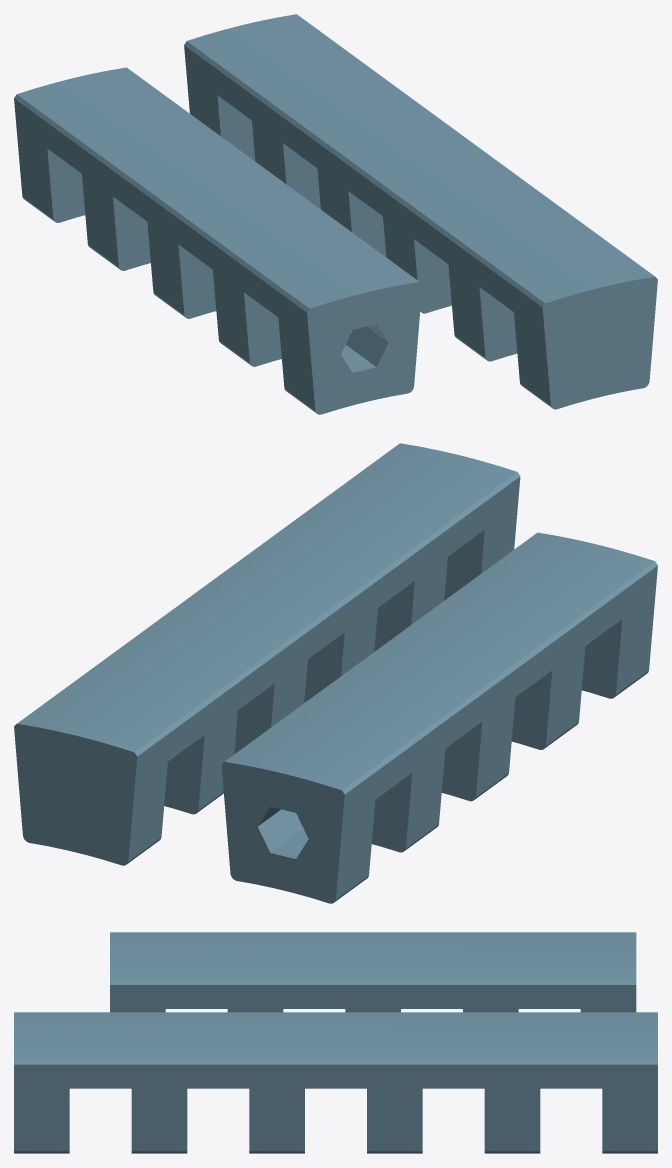
File: comb-device.glb
3 views of the same model, one above another, from view 1: azimuth 30°, elevation 25°; view 2: azimuth 150°, elevation 25°; view 3: azimuth 270°, elevation 25° (orthographic). The views are drawn at different scales.
Visible parts, largest first — view 1: comb-device-5, comb-device-4; view 2: comb-device-5, comb-device-4; view 3: comb-device-5, comb-device-4.
Boxes of the visible parts, x1,y1,x2,y2 form: comb-device-5: (184, 14, 657, 409); comb-device-4: (14, 67, 422, 414); comb-device-5: (14, 443, 520, 865); comb-device-4: (221, 532, 657, 903); comb-device-5: (14, 1012, 657, 1153); comb-device-4: (110, 932, 636, 1012).
Bounding box in the file's own units: 99.65 × 35.56 × 208.
